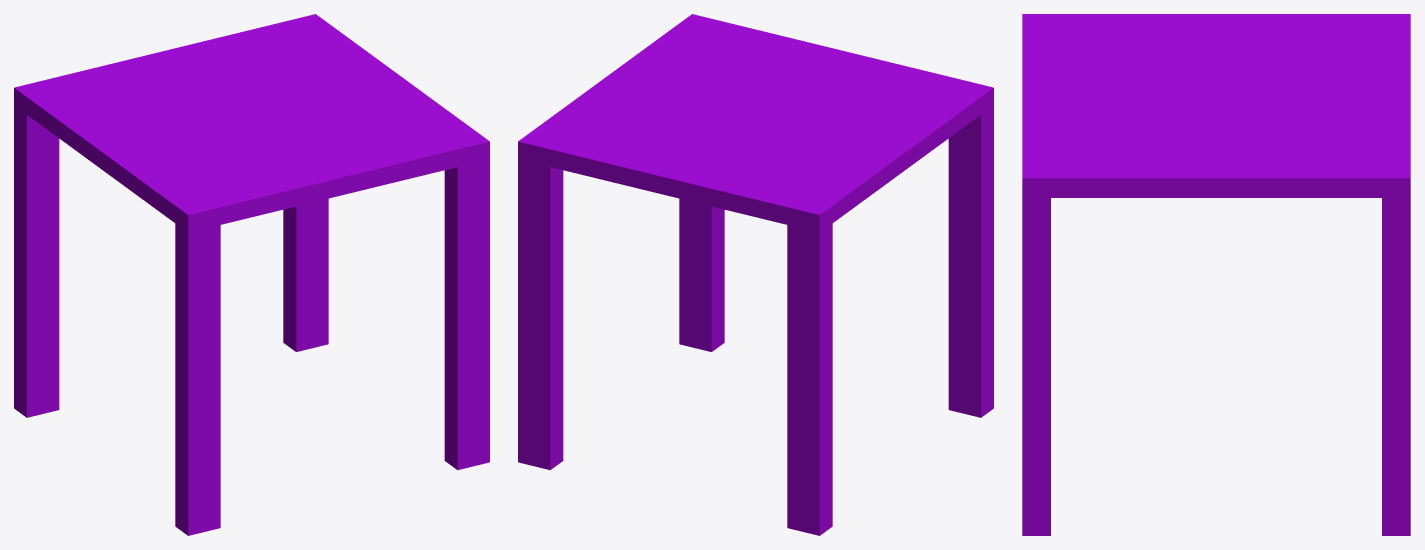
File: sm_table2_low.fbx
3 renders of one model, left to right at view 1: azimuth 30°, elevation 25°; view 2: azimuth 150°, elevation 25°; view 3: azimuth 270°, elevation 25°, orthographic. The views are drawn at different scales.
Visible parts, largest first — view 1: pCube5; view 2: pCube5; view 3: pCube5.
Boxes of the visible parts, <box> form: pCube5: <box>14,14,489,535</box>; pCube5: <box>518,14,993,535</box>; pCube5: <box>1022,14,1410,535</box>.
Size of the model in its own units: 388 by 394 by 388.
